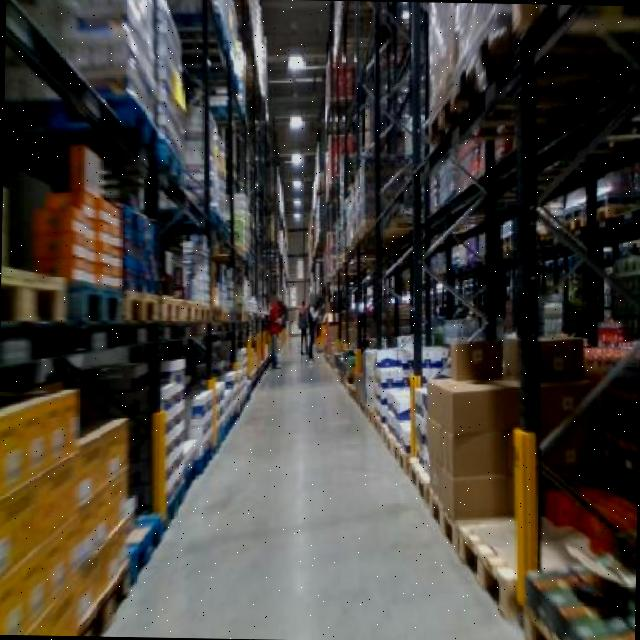pallet: (450, 520, 521, 614), (0, 267, 74, 340), (58, 282, 130, 327), (113, 290, 166, 336), (422, 478, 454, 550), (402, 453, 435, 498), (154, 298, 194, 326)
